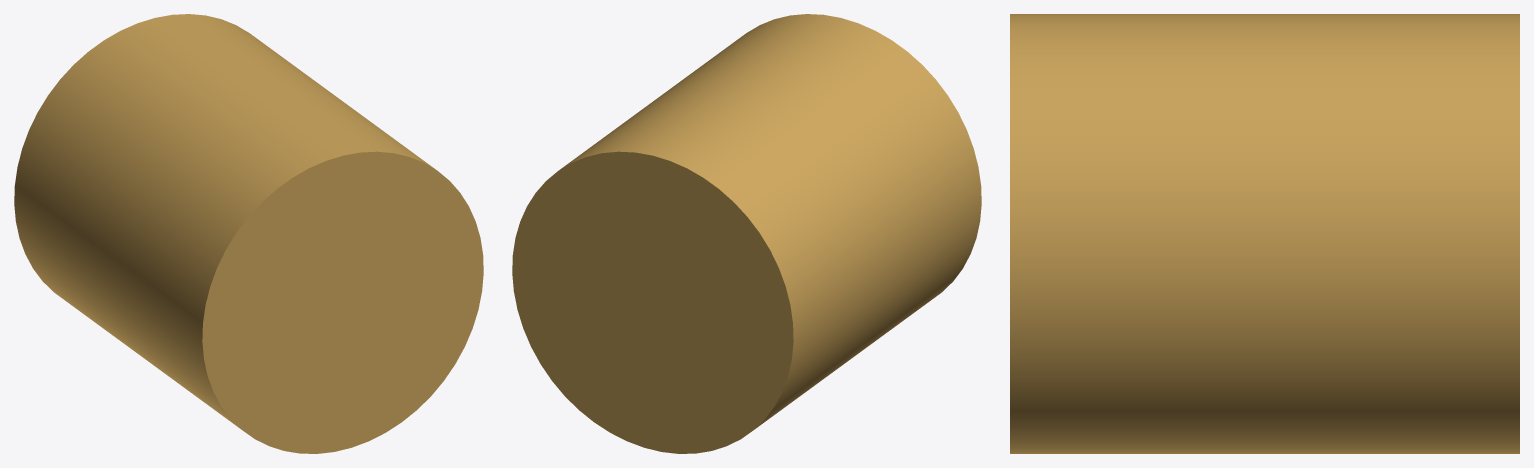
File: gab_fechadura.glb
3 renders of one model, left to right at view 1: azimuth 30°, elevation 25°; view 2: azimuth 150°, elevation 25°; view 3: azimuth 270°, elevation 25°, orthographic. The views are drawn at different scales.
Visible parts, largest first — view 1: gab_fechadura; view 2: gab_fechadura; view 3: gab_fechadura.
Boxes of the visible parts, x1,y1,x2,y2 form: gab_fechadura: (14,14,483,453); gab_fechadura: (512,14,981,453); gab_fechadura: (1010,14,1519,453).
Size of the model in its own units: 18.99 by 18.98 by 22.
